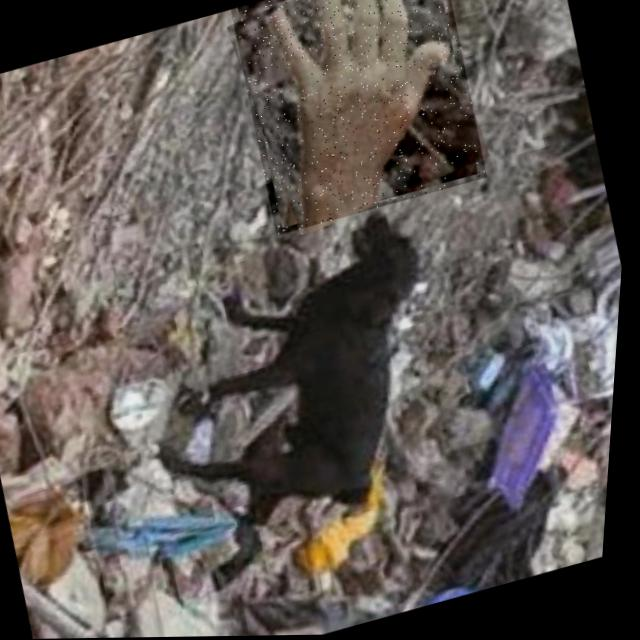Person in Rubble: (217, 0, 498, 236)
